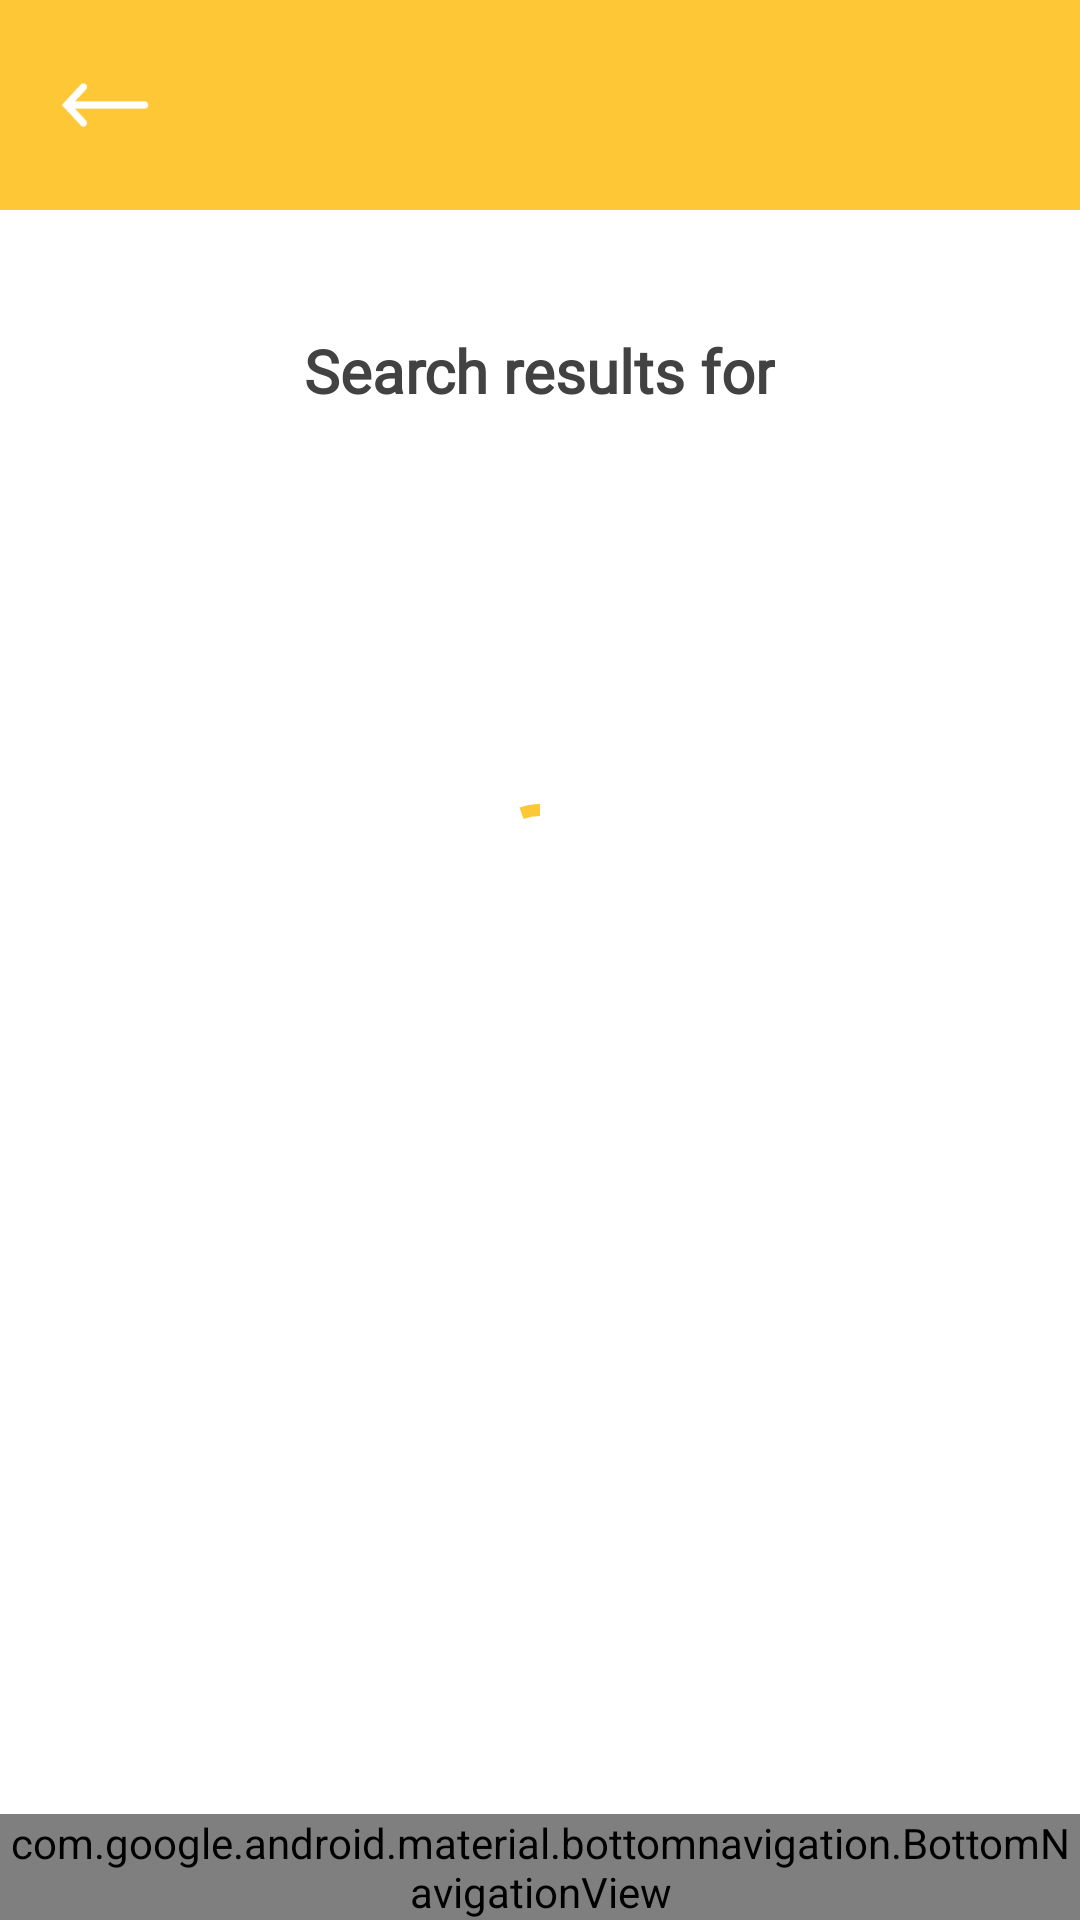

Screen size 1080x1920. Icon name, then its center in pixels as (x,y):
back arrow: (105,105)
